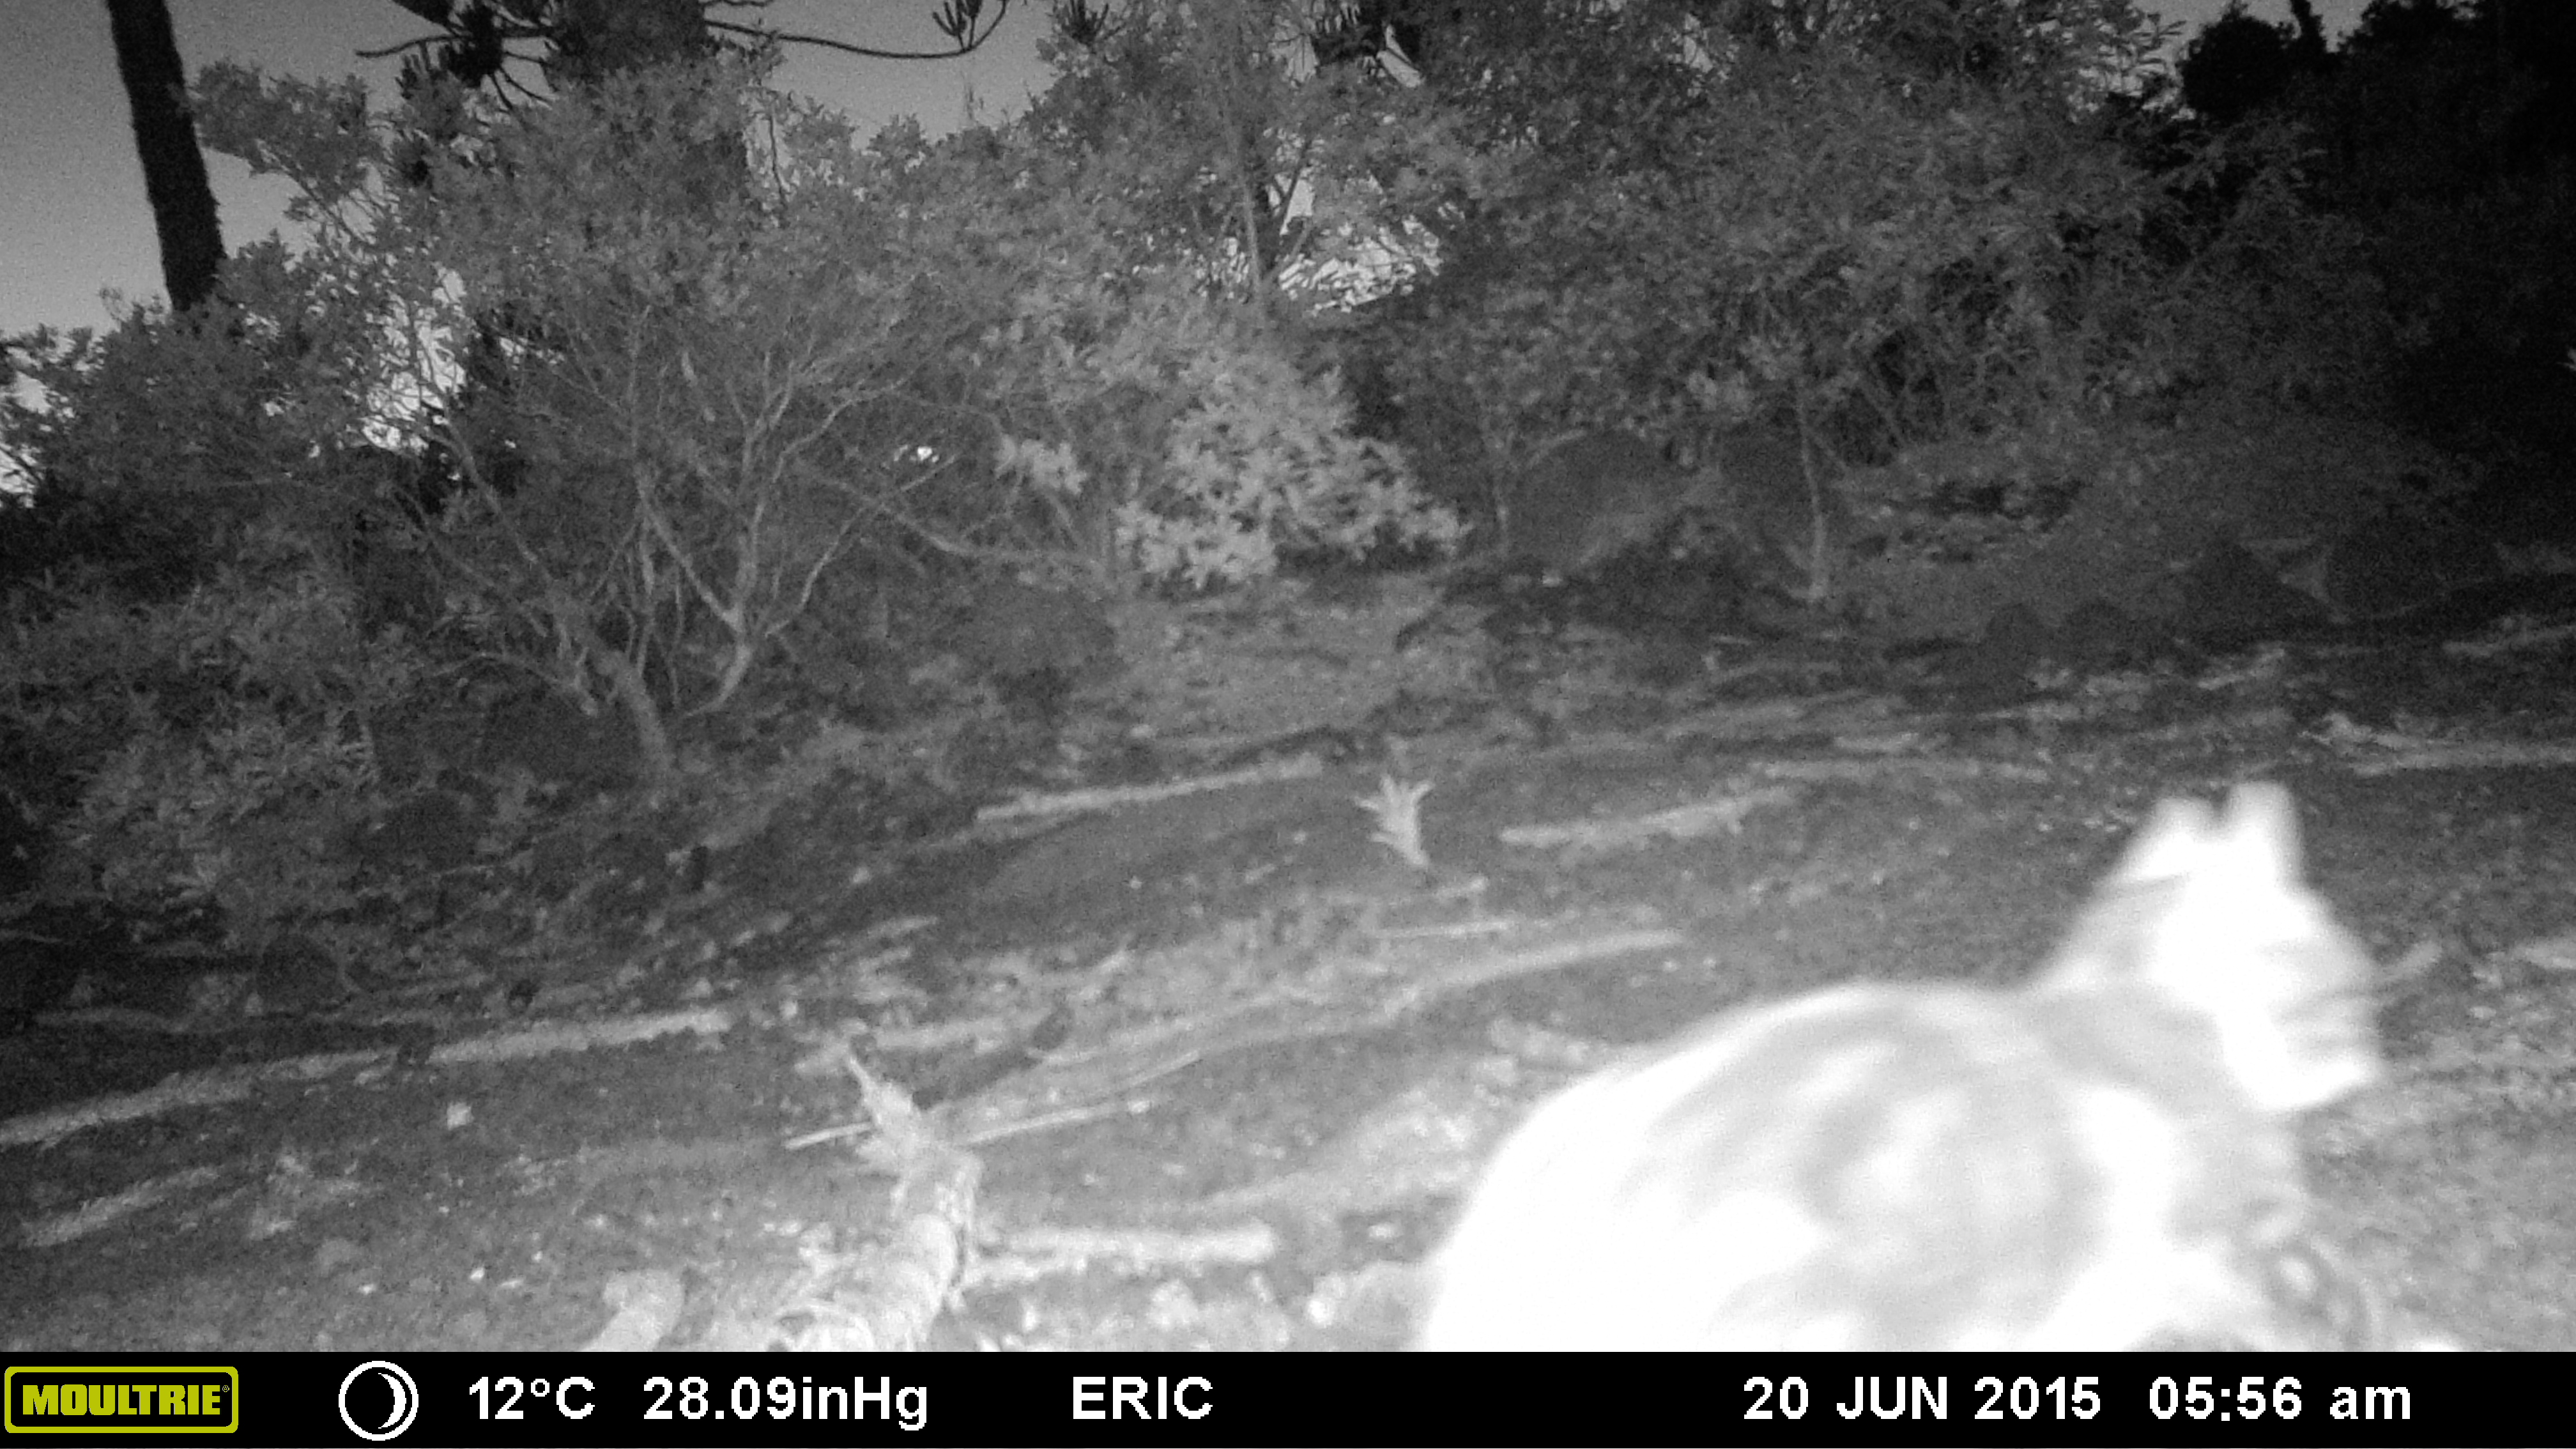cat: (1408, 761, 2419, 1355)
